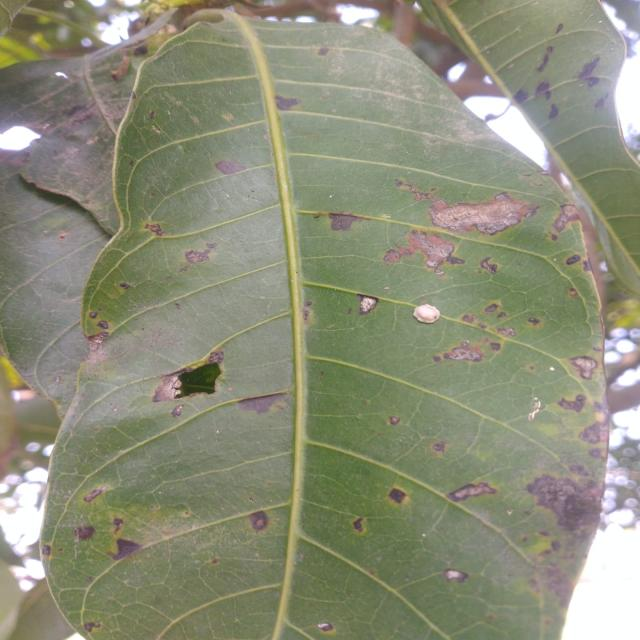Anthracnose: (325, 208, 357, 235), (180, 246, 211, 270), (139, 220, 169, 239), (483, 297, 506, 319), (478, 258, 500, 275)
Bacterial Cancer: (430, 190, 537, 241), (386, 225, 457, 276), (169, 350, 232, 404)
Powdery Mildew: (360, 295, 375, 310)
